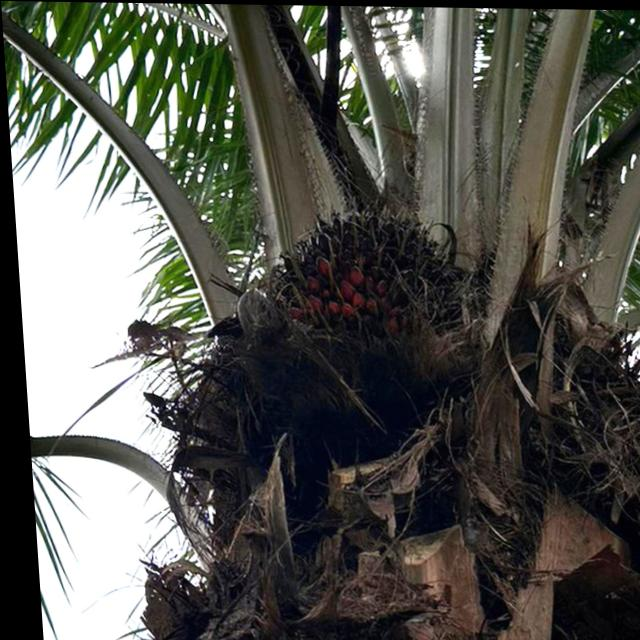ripe: (237, 180, 488, 411)
